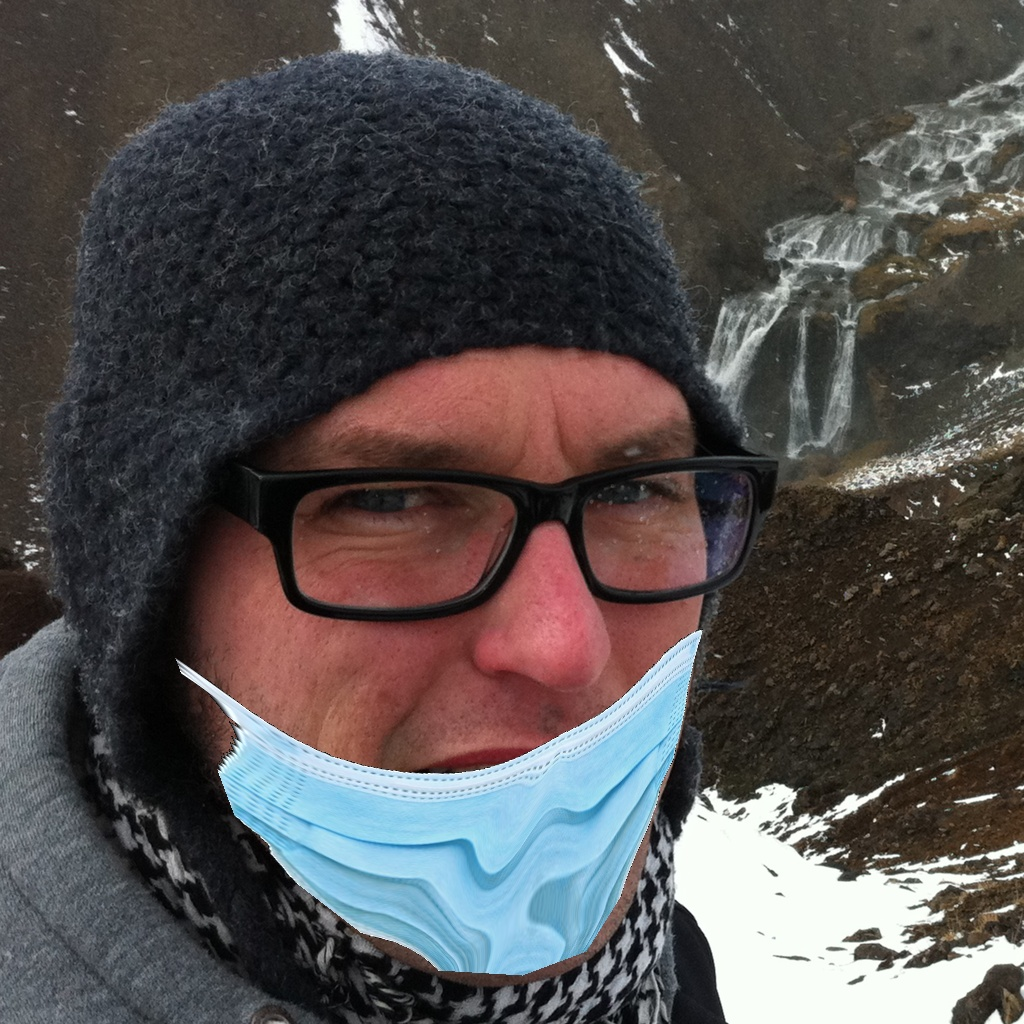mascarilla_mal_puesta: (129, 305, 819, 988)
